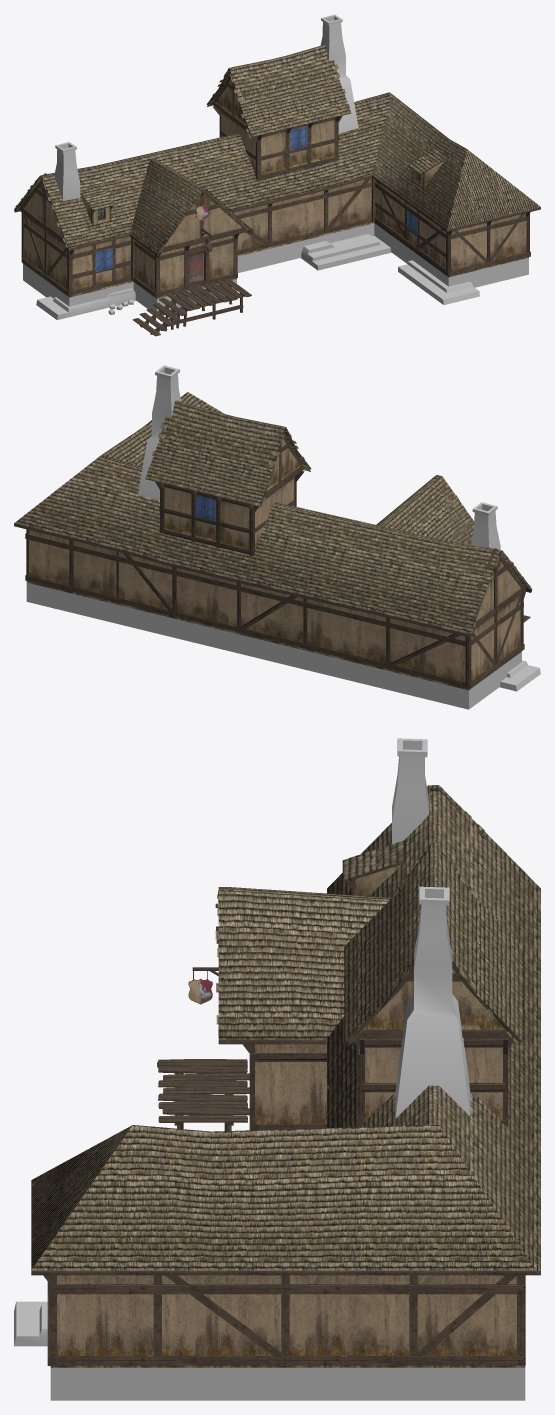
The model's file is f1_house02.fbx.
The picture shows the model from 3 angles, top to bottom: view 1: azimuth 30°, elevation 25°; view 2: azimuth 150°, elevation 25°; view 3: azimuth 270°, elevation 25°; orthographic projection. The views are drawn at different scales.
Visible parts, largest first — view 1: Mesh Object; view 2: Mesh Object; view 3: Mesh Object.
Part boxes in pixels (x1,y1,x2,y2): Mesh Object: (14, 14, 540, 336); Mesh Object: (14, 365, 540, 709); Mesh Object: (14, 738, 540, 1400).
Size of the model in its own units: 25.35 by 12.53 by 14.43.
